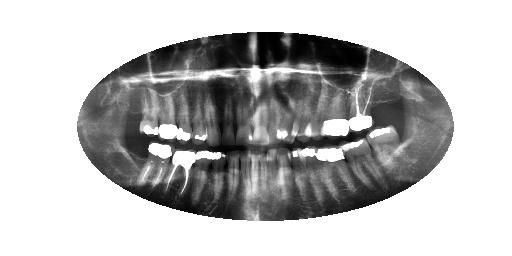15healthy: (140, 84, 161, 136)
i10healthy: (239, 149, 251, 199)
i11healthy: (227, 149, 240, 208)
i12healthy: (210, 150, 228, 208)
i13healthy: (194, 148, 214, 204)
i14healthy: (165, 148, 200, 198)
i15healthy: (136, 142, 179, 189)
i16loss: (120, 139, 146, 181)
i1healthy: (365, 122, 411, 177)
i2healthy: (337, 136, 384, 196)
i3healthy: (315, 146, 359, 203)
i4healhty: (300, 147, 326, 199)
i5healthy: (289, 150, 306, 202)
i6healthy: (275, 147, 294, 203)
i7healthy: (267, 148, 277, 203)
i8healthy: (259, 148, 268, 205)
i9healthy: (250, 149, 261, 205)
u10healthy: (222, 90, 236, 145)
u11healthy: (204, 85, 223, 147)
u12healthy: (191, 86, 207, 145)
u13healthy: (175, 88, 193, 143)
u14healthy: (159, 87, 180, 139)
u16loss: (120, 84, 140, 135)
u1loss: (371, 79, 401, 123)
u2healthy: (346, 84, 375, 132)
u3healthy: (321, 90, 349, 135)
u5healthy: (293, 96, 313, 141)
u6healthy: (277, 92, 297, 143)
u7healthy: (269, 91, 282, 146)
u8healthy: (253, 87, 270, 146)
u9healthy: (236, 87, 253, 146)
uhealthy: (305, 82, 327, 139)
